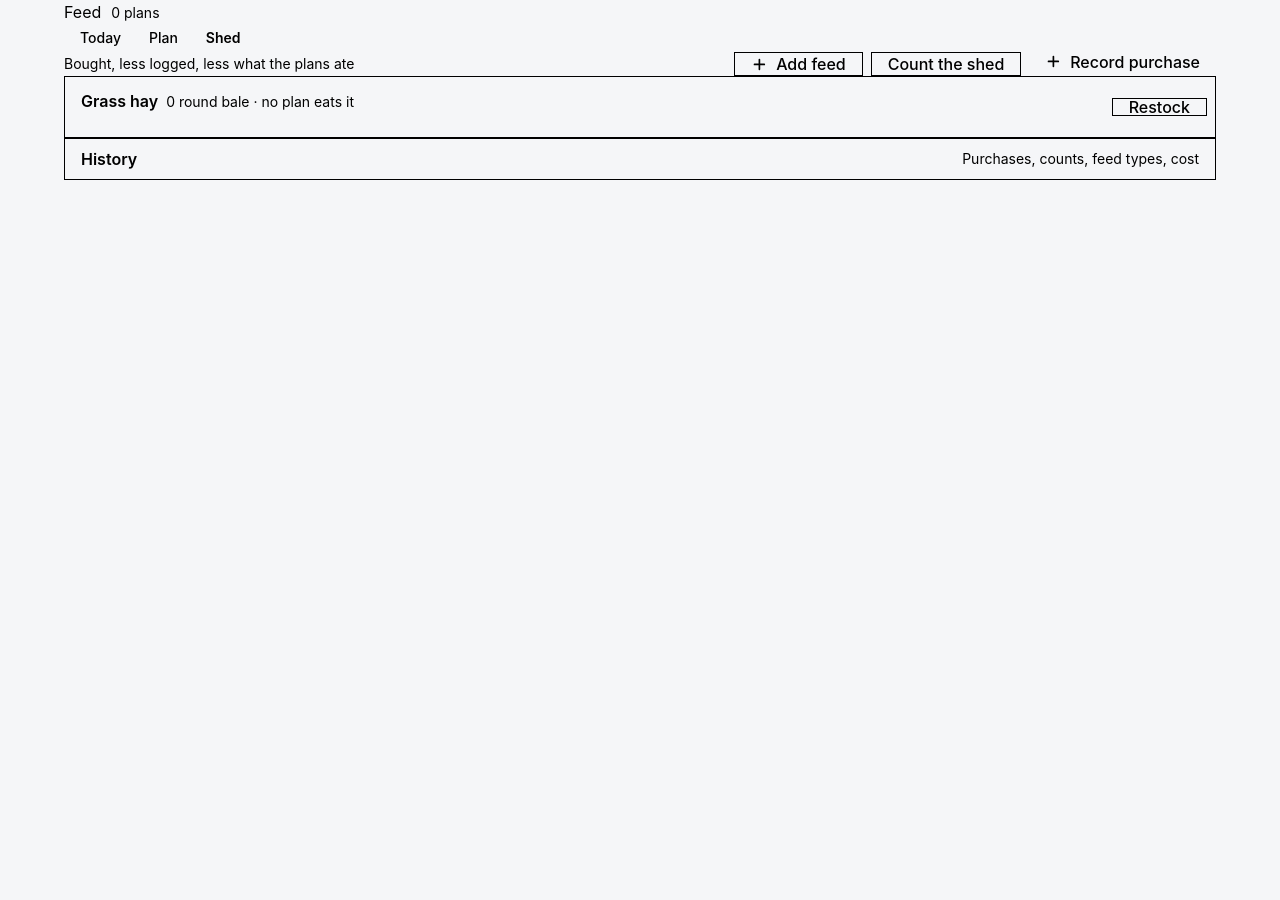
Test: The feed shed › records a purchase in a side panel
Click the button "Record purchase". click: (1123, 62)
box: x1=1029 y1=53 x2=1216 y2=70
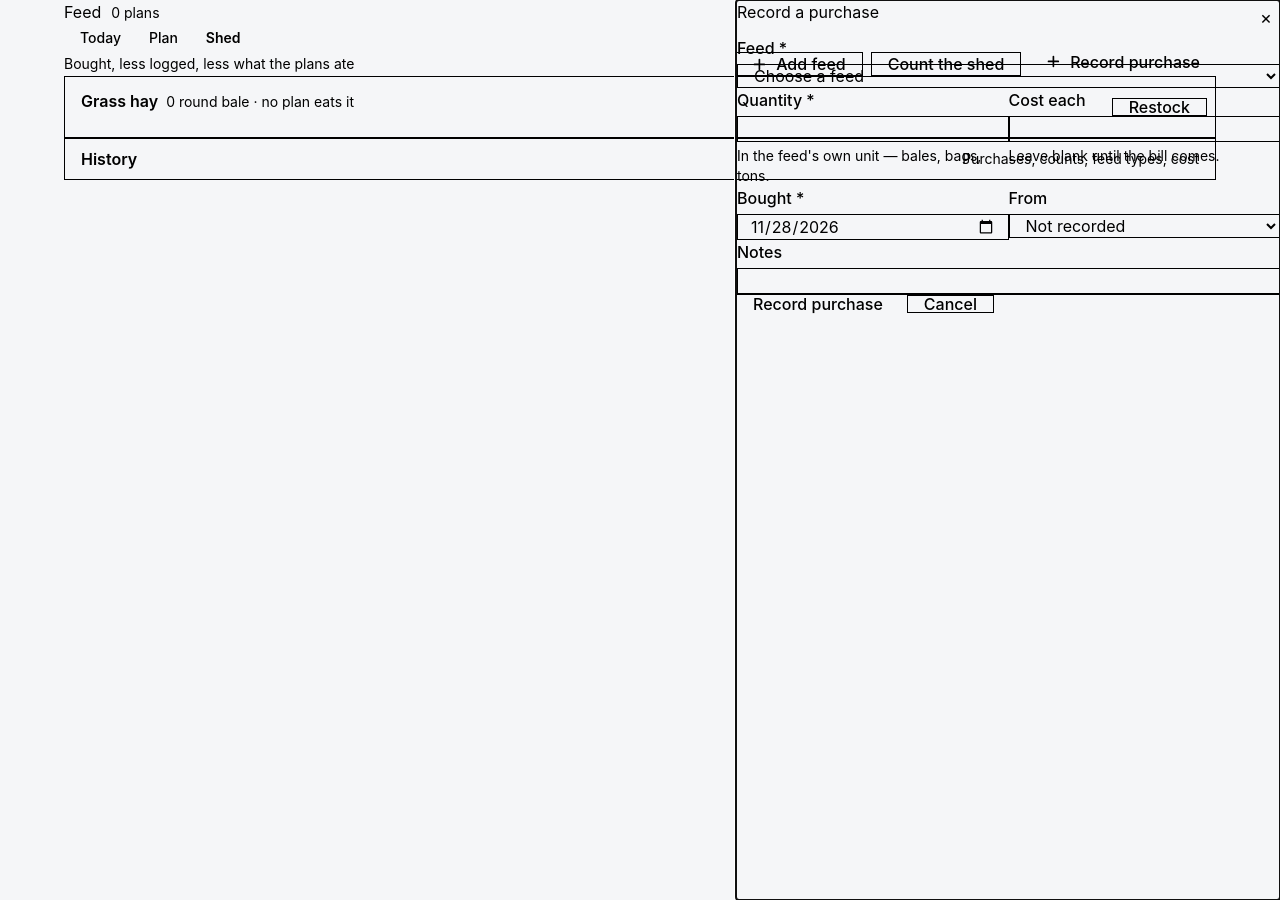
Select "Grass hay (round bale)" in the dropdown labelled "Feed *". click: (1008, 76)
box: x1=737 y1=64 x2=1279 y2=88
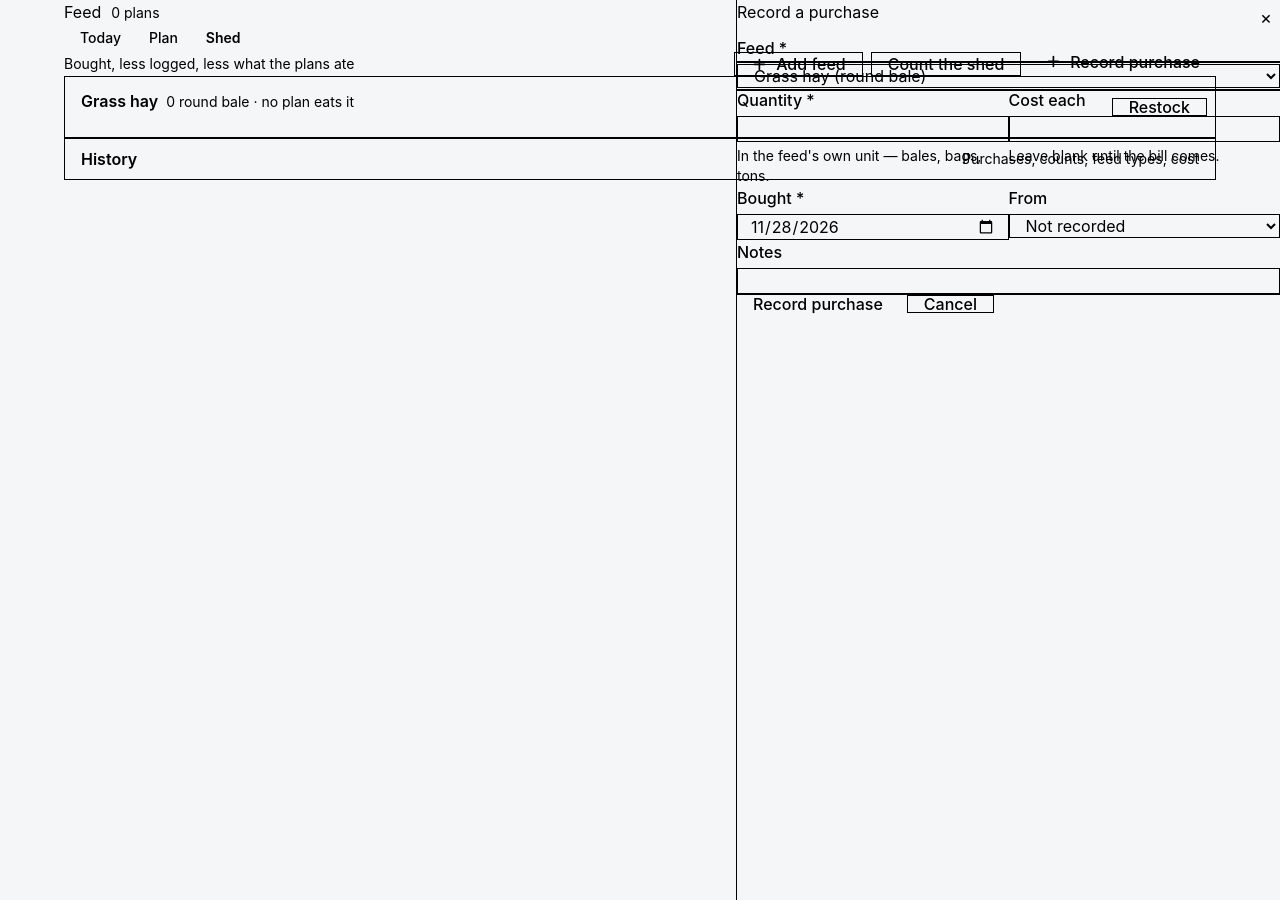
Type "12" into the number field labelled "Quantity *". click: (873, 129)
box: x1=737 y1=116 x2=1008 y2=142
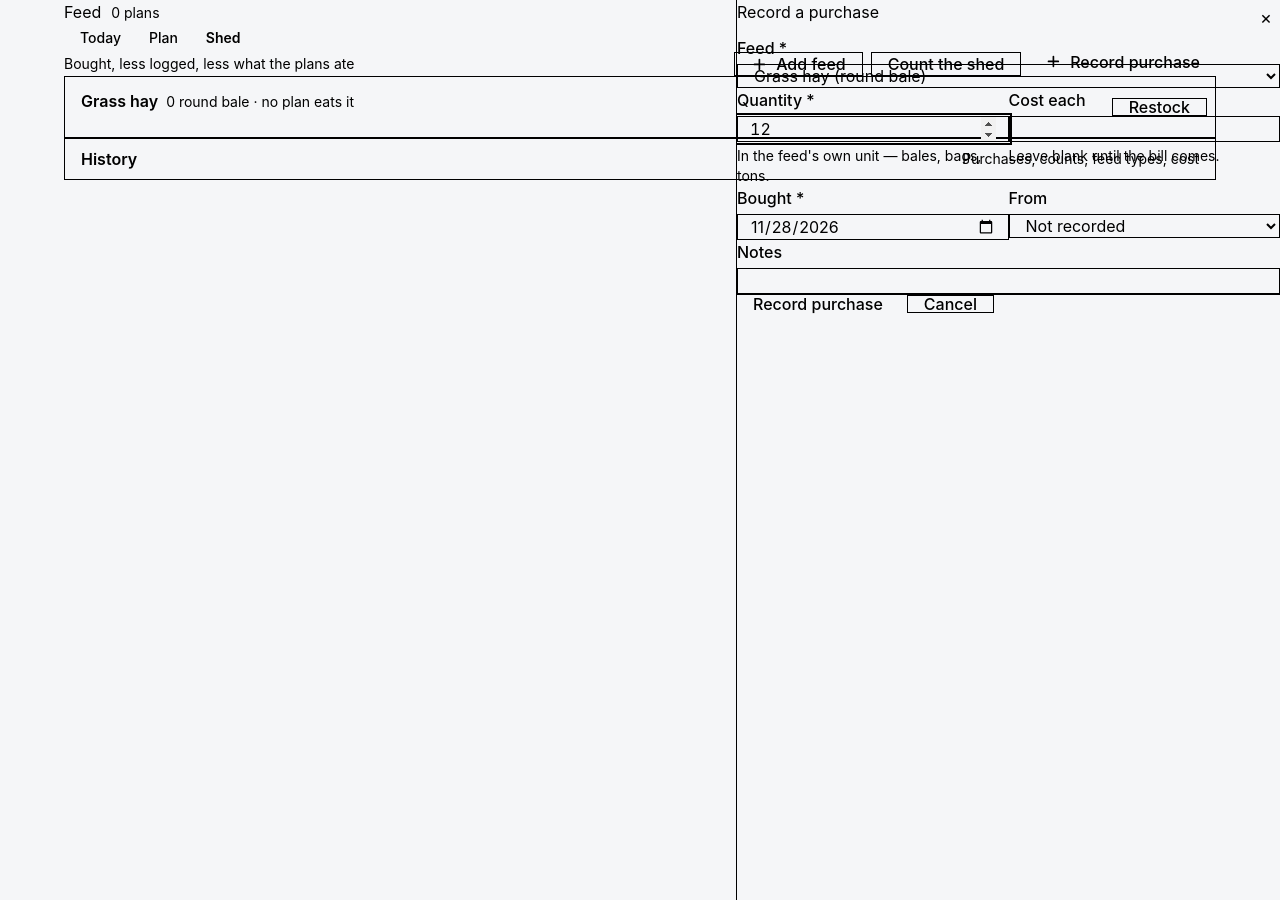
Type "65" into the number field labelled "Cost each". click: (1144, 129)
box: x1=1008 y1=116 x2=1279 y2=142
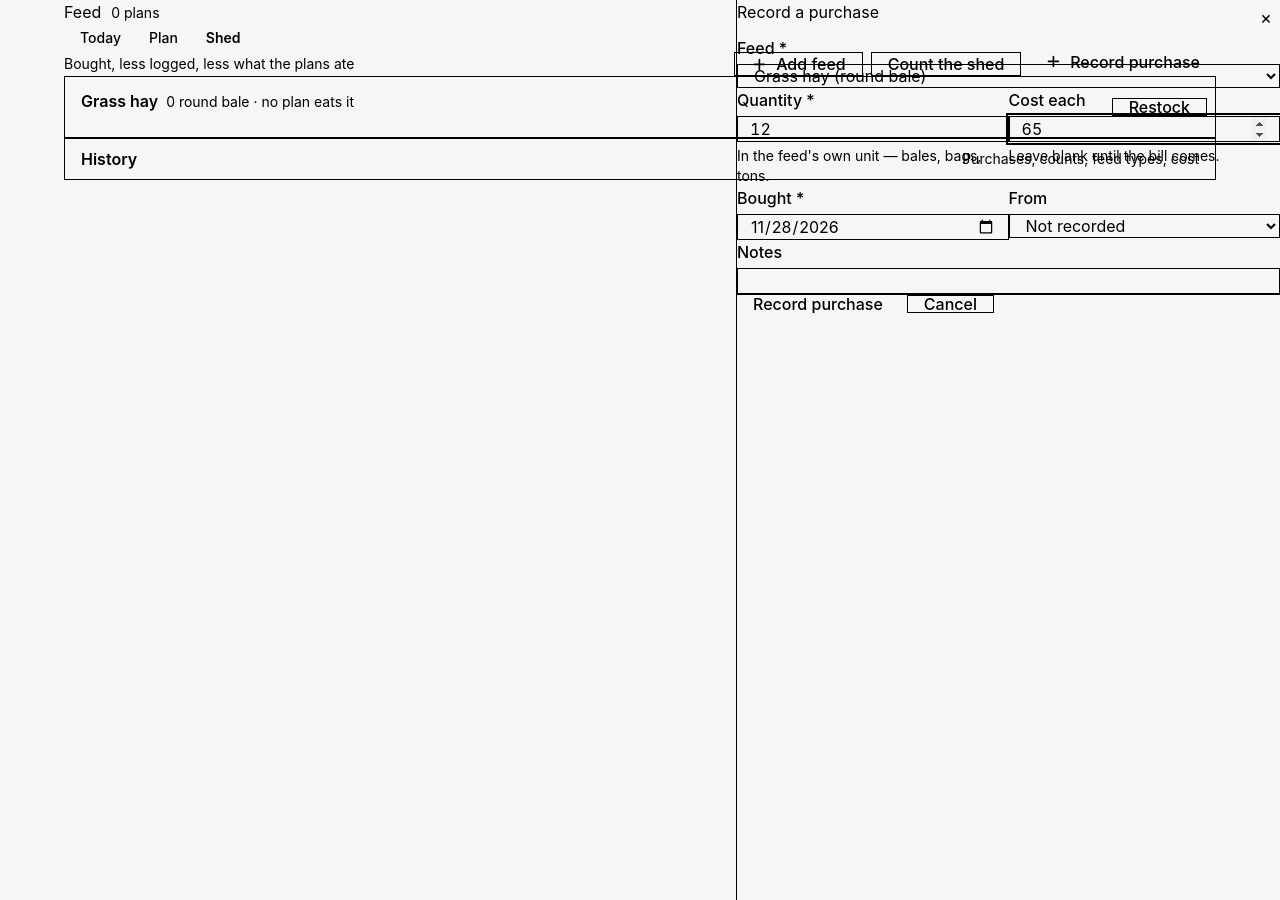
Click the button "Record purchase". click: (818, 304)
box: x1=737 y1=295 x2=899 y2=313
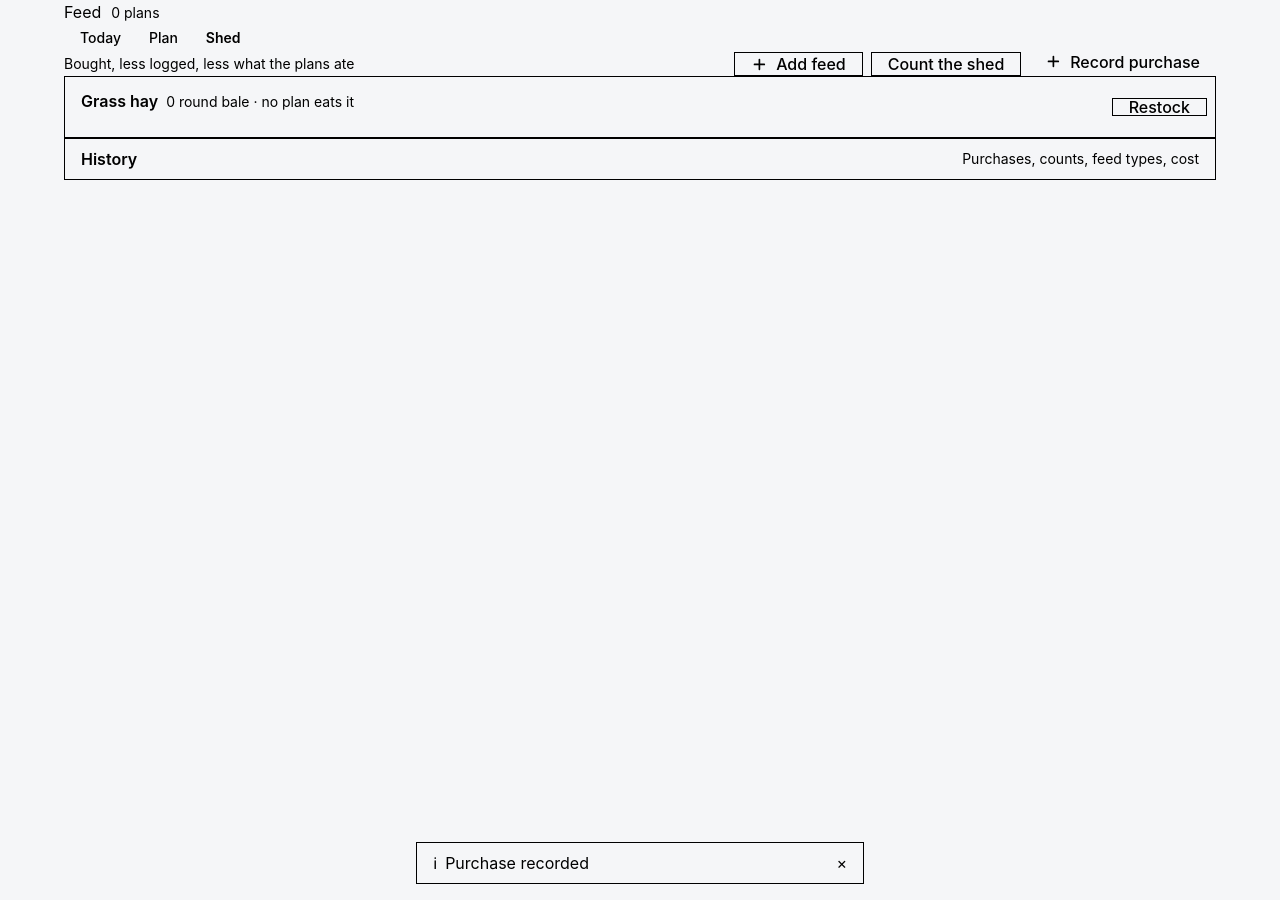
Check: the dialog is gone
